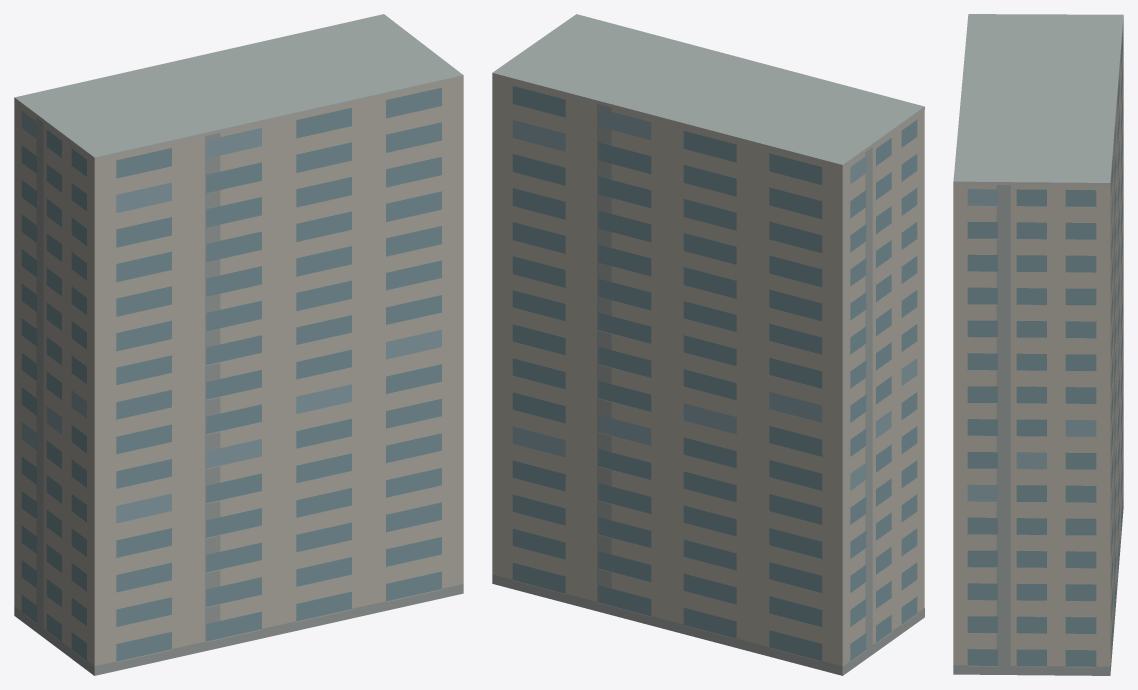
Rendered from residential-58b47ab9-ca7c-4145-b082-387f3ba0a426.glb.
The picture shows the model from 3 angles, left to right: view 1: azimuth 30°, elevation 25°; view 2: azimuth 150°, elevation 25°; view 3: azimuth 270°, elevation 25°; orthographic projection. The views are drawn at different scales.
Parts seen in each view (by area): view 1: residential-58b47ab9-ca7c-4145-b082-387f3ba0a426.tmp; view 2: residential-58b47ab9-ca7c-4145-b082-387f3ba0a426.tmp; view 3: residential-58b47ab9-ca7c-4145-b082-387f3ba0a426.tmp.
Boxes of the visible parts, left/top/right/bottom form: residential-58b47ab9-ca7c-4145-b082-387f3ba0a426.tmp: left=14, top=14, right=463, bottom=675; residential-58b47ab9-ca7c-4145-b082-387f3ba0a426.tmp: left=492, top=14, right=924, bottom=675; residential-58b47ab9-ca7c-4145-b082-387f3ba0a426.tmp: left=953, top=14, right=1123, bottom=675.
Bounding box in the file's own units: 28.69 × 39 × 12.21.
